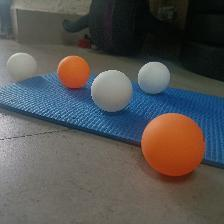WhiteBall: (90, 69, 132, 111), (136, 61, 170, 94), (6, 51, 36, 81)
YellowBall: (140, 112, 204, 176), (56, 54, 88, 88)
